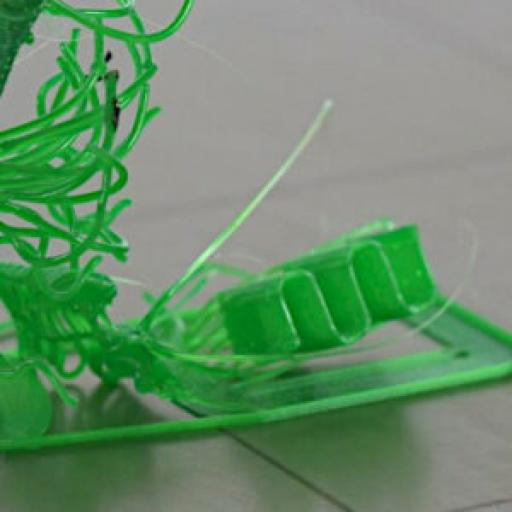spaghetti: (15, 28, 215, 396)
